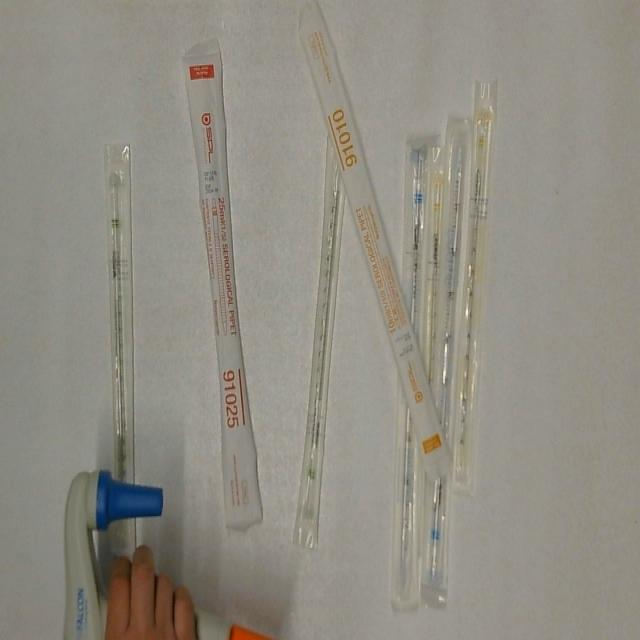Pipette Controller: (59, 465, 276, 640)
Serelogical Pipet 1 mL: (452, 75, 502, 494), (421, 133, 453, 393)
Serelogical Pipet 10 mL: (296, 2, 457, 486)
Serelogical Pipet 2 mL: (290, 121, 352, 549), (102, 142, 144, 565)
Serelogical Pipet 25 mL: (182, 33, 267, 533)
Serelogical Pipet 5 mL: (421, 113, 477, 593), (389, 139, 437, 616)
